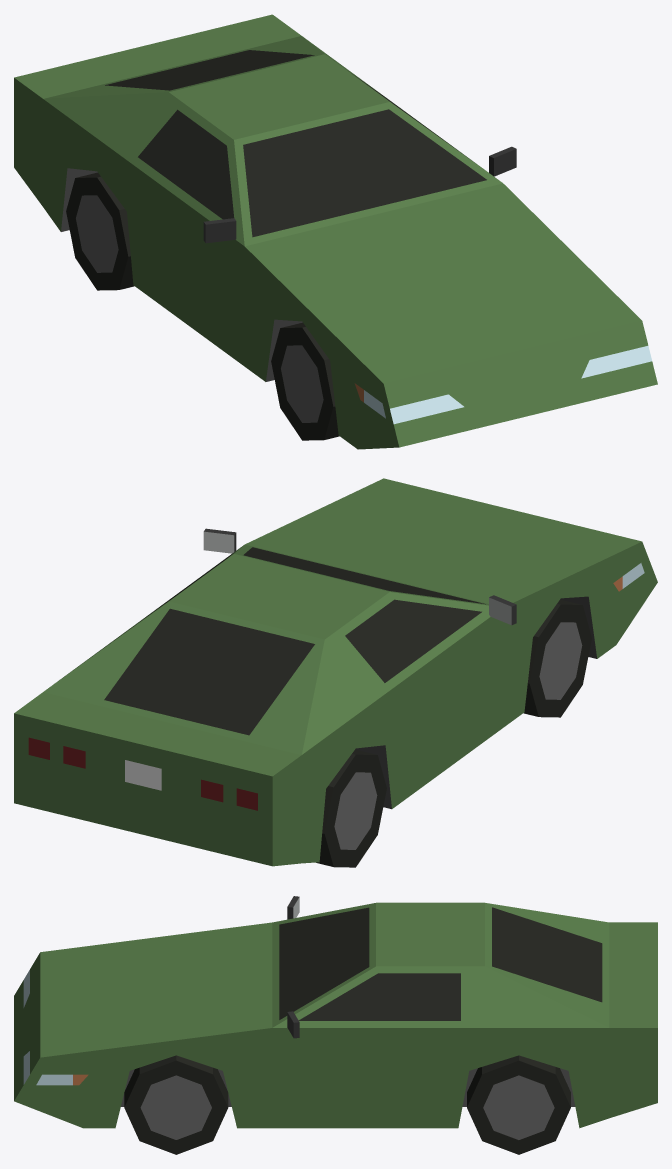
The model's file is Veh_Sports_Car_01_Green.glb.
3 renders of one model, top to bottom at view 1: azimuth 30°, elevation 25°; view 2: azimuth 150°, elevation 25°; view 3: azimuth 270°, elevation 25°, orthographic. The views are drawn at different scales.
Visible parts, largest first — view 1: Sports_Car_01_Green, Wheel_RR, Wheel_FR; view 2: Sports_Car_01_Green, Wheel_RR, Wheel_FR; view 3: Sports_Car_01_Green, Wheel_RL, Wheel_FL.
Part boxes in pixels (x1,y1,x2,y2): Sports_Car_01_Green: (14,14,657,449); Wheel_RR: (66,172,134,290); Wheel_FR: (271,322,339,440); Sports_Car_01_Green: (14,478,657,866); Wheel_RR: (316,749,386,867); Wheel_FR: (523,599,591,717); Sports_Car_01_Green: (14,896,657,1128); Wheel_RL: (467,1055,570,1154); Wheel_FL: (124,1055,228,1154).
Bounding box in the file's own units: 1.13 × 0.6973 × 2.43.
Materials: 1 (1 with a texture image).
